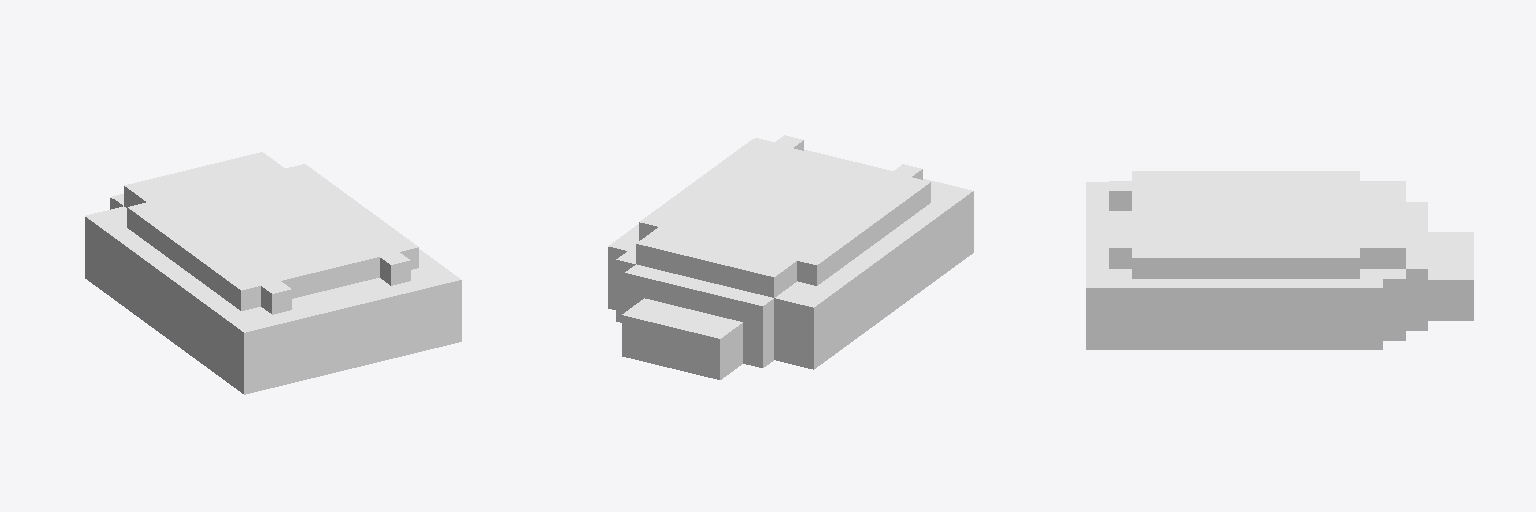
The model's file is gorra.obj.
3 views of the same model, side by side, from view 1: azimuth 30°, elevation 25°; view 2: azimuth 150°, elevation 25°; view 3: azimuth 270°, elevation 25° (orthographic).
Parts seen in each view (by area): view 1: object 1; view 2: object 1; view 3: object 1.
Part boxes in pixels (bbox=[...]): object 1: bbox=[85, 152, 461, 394]; object 1: bbox=[608, 135, 973, 379]; object 1: bbox=[1086, 171, 1473, 349].
Size of the model in its own units: 1.1 by 0.4 by 1.7.